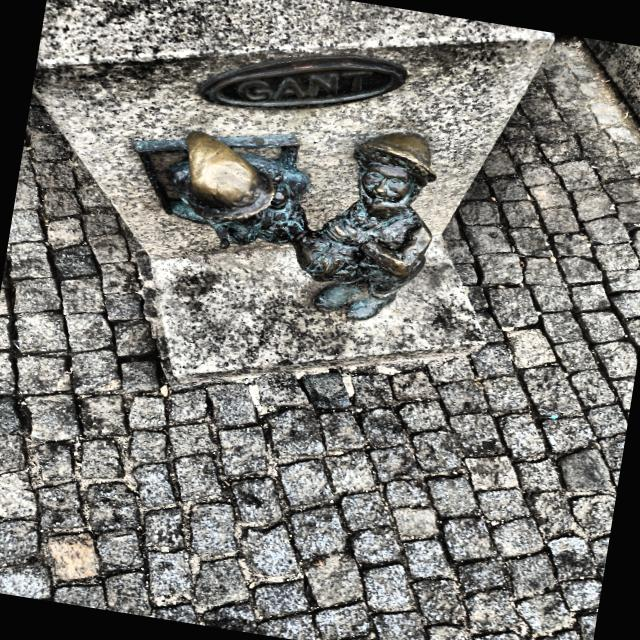Kantorki: (134, 131, 436, 320)
